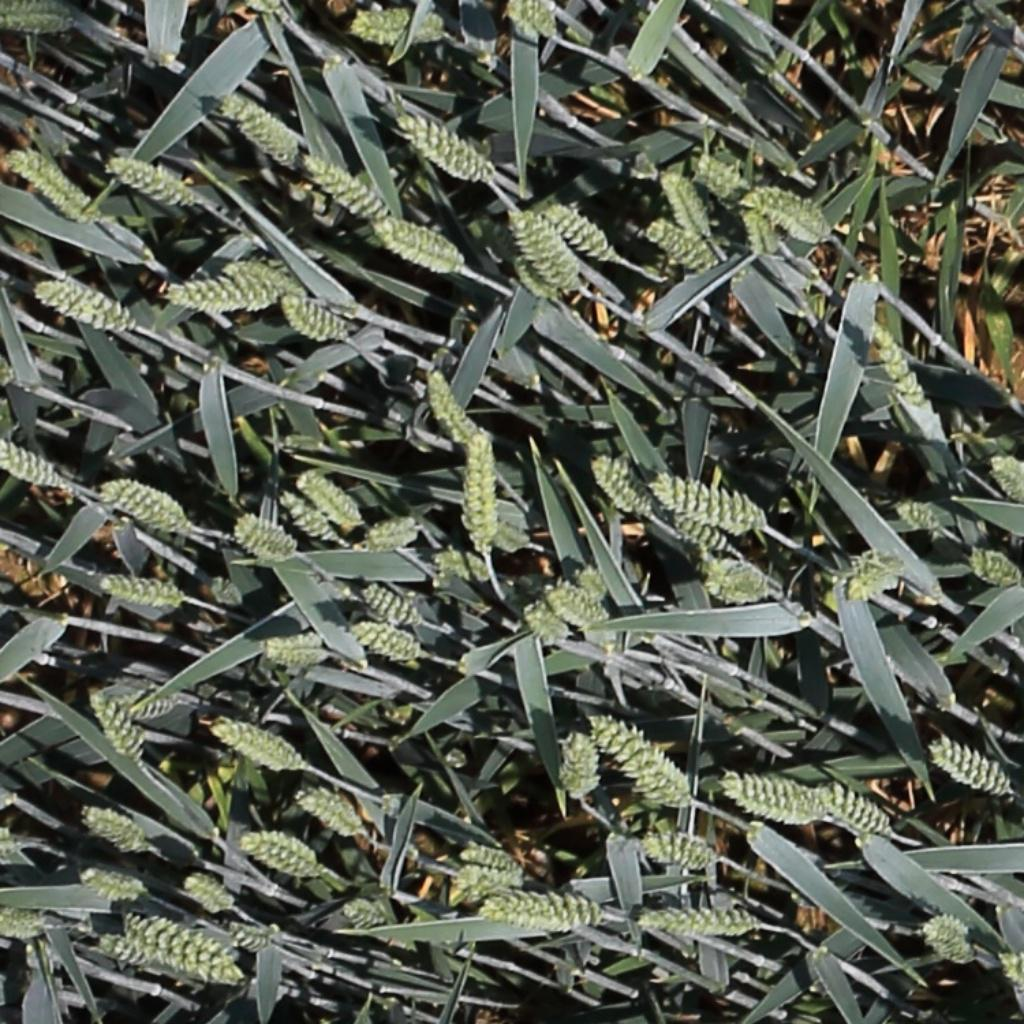0-0: (122, 906, 252, 986), (865, 315, 946, 439), (588, 718, 689, 802), (393, 111, 494, 184), (714, 767, 828, 831), (5, 146, 100, 222), (648, 474, 764, 535), (506, 202, 578, 288), (32, 275, 136, 334), (218, 90, 299, 165), (102, 152, 203, 212), (300, 151, 389, 218), (741, 181, 830, 247), (158, 271, 287, 316), (926, 735, 1017, 797), (474, 889, 606, 931), (460, 421, 499, 562), (83, 686, 144, 772), (371, 219, 464, 275), (656, 163, 719, 245), (639, 898, 764, 938), (349, 5, 449, 54), (420, 364, 476, 449), (540, 200, 619, 260), (208, 722, 301, 772), (236, 827, 327, 877), (817, 773, 889, 835), (587, 453, 653, 520), (96, 480, 185, 529), (77, 804, 158, 857), (230, 509, 302, 568), (290, 785, 373, 836), (293, 468, 360, 529), (645, 214, 715, 272), (0, 438, 70, 494), (96, 573, 190, 612), (538, 579, 607, 632), (688, 151, 752, 208), (638, 832, 722, 873), (217, 256, 302, 296), (663, 510, 733, 558), (704, 554, 774, 601), (277, 292, 346, 339), (274, 488, 336, 540), (452, 845, 529, 885), (259, 627, 332, 669), (76, 863, 150, 904), (507, 247, 559, 304), (357, 582, 421, 628), (0, 2, 84, 37), (843, 555, 906, 600), (346, 623, 420, 660), (94, 928, 157, 968), (559, 729, 592, 804), (180, 874, 236, 918), (338, 892, 392, 937), (361, 515, 424, 552), (518, 603, 567, 647), (739, 210, 780, 262), (923, 927, 977, 966), (0, 904, 54, 943), (968, 551, 1024, 588), (987, 451, 1024, 505), (229, 917, 284, 953), (203, 573, 251, 613), (506, 1, 554, 39), (495, 513, 536, 556), (572, 559, 608, 606), (916, 907, 972, 937), (435, 551, 488, 582), (0, 827, 33, 869), (996, 947, 1024, 996), (894, 499, 939, 529), (121, 697, 176, 719)
